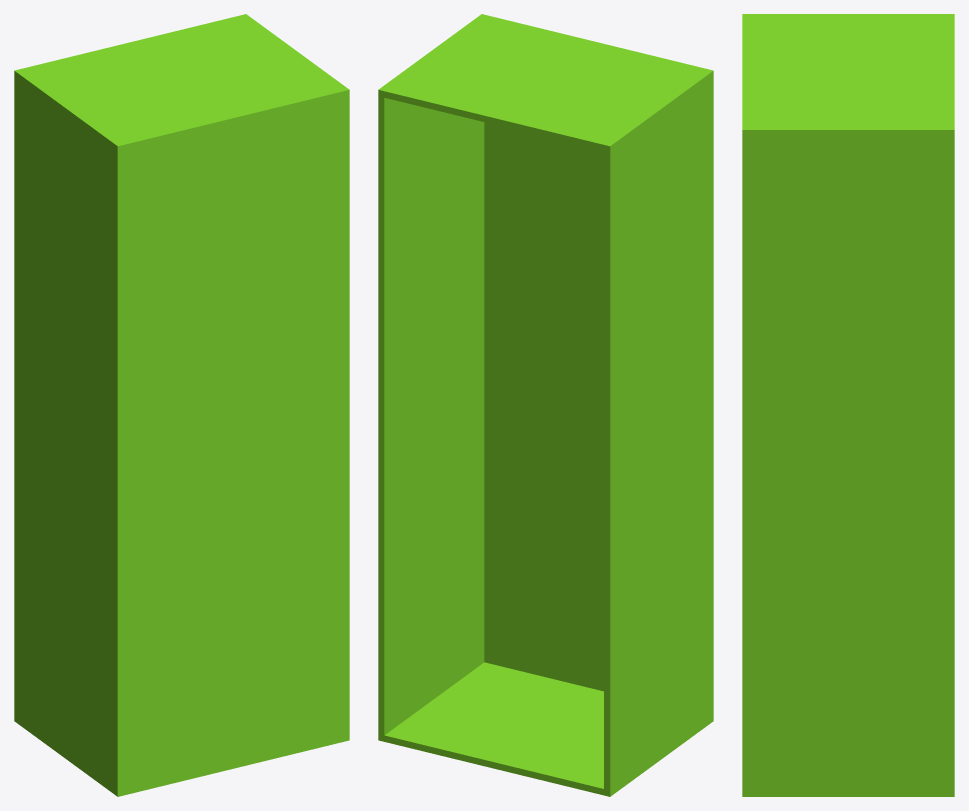
Rendered from SM_Furniture_Pax_75.fbx.
3 views of the same model, side by side, from view 1: azimuth 30°, elevation 25°; view 2: azimuth 150°, elevation 25°; view 3: azimuth 270°, elevation 25° (orthographic). The views are drawn at different scales.
Parts seen in each view (by area): view 1: SM_Furniture_Pax_75; view 2: SM_Furniture_Pax_75; view 3: SM_Furniture_Pax_75.
Boxes of the visible parts, x1,y1,x2,y2 form: SM_Furniture_Pax_75: (14, 14, 349, 796); SM_Furniture_Pax_75: (378, 14, 713, 796); SM_Furniture_Pax_75: (742, 14, 954, 796).
Bounding box in the file's own units: 75 × 201 × 58.
